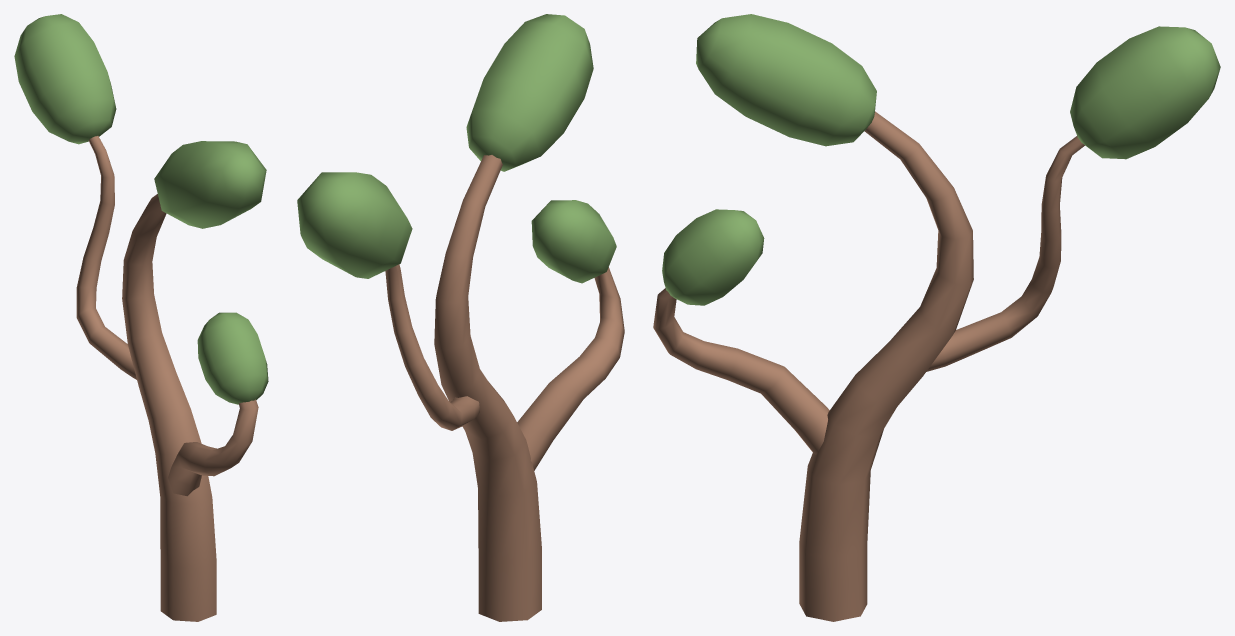
The model's file is Tree1.fbx.
3 renders of one model, left to right at view 1: azimuth 30°, elevation 25°; view 2: azimuth 150°, elevation 25°; view 3: azimuth 270°, elevation 25°, orthographic. The views are drawn at different scales.
Parts seen in each view (by area): view 1: Tree; view 2: Tree; view 3: Tree.
Part boxes in pixels (bbox=[...]): Tree: bbox=[14, 14, 268, 621]; Tree: bbox=[297, 14, 624, 621]; Tree: bbox=[653, 14, 1220, 621].
Bounding box in the file's own units: 135 × 733 × 639.
